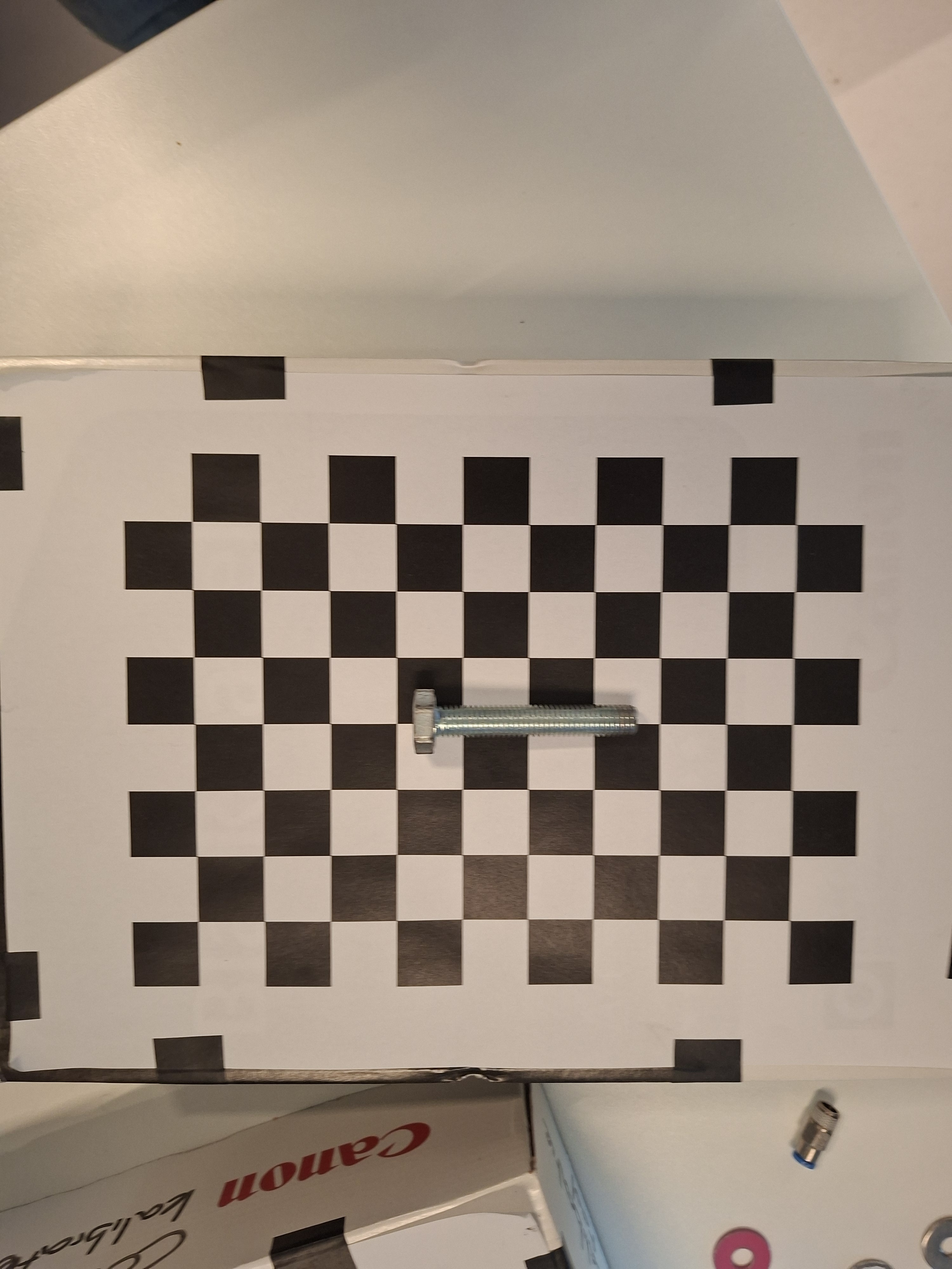hex_bolt: (406, 679, 649, 755)
